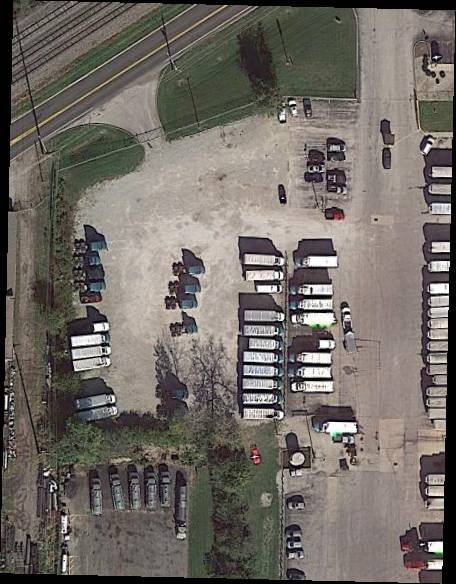large vehicle: (74, 406, 117, 427), (77, 394, 116, 412), (72, 345, 112, 361), (108, 476, 126, 511), (72, 332, 111, 348), (292, 298, 334, 312), (290, 284, 334, 297), (74, 356, 111, 371), (243, 408, 282, 422), (242, 378, 283, 391), (178, 487, 188, 540), (244, 352, 284, 365), (317, 422, 357, 435), (291, 353, 333, 365), (290, 367, 332, 379), (129, 474, 143, 510), (293, 313, 335, 325), (297, 256, 338, 268), (243, 394, 284, 406), (292, 382, 335, 393), (245, 311, 283, 323), (243, 327, 284, 338), (145, 475, 158, 509), (245, 255, 285, 266), (249, 340, 285, 352), (92, 479, 104, 515), (245, 367, 284, 378), (161, 472, 173, 507), (247, 272, 283, 282), (258, 286, 282, 294)
